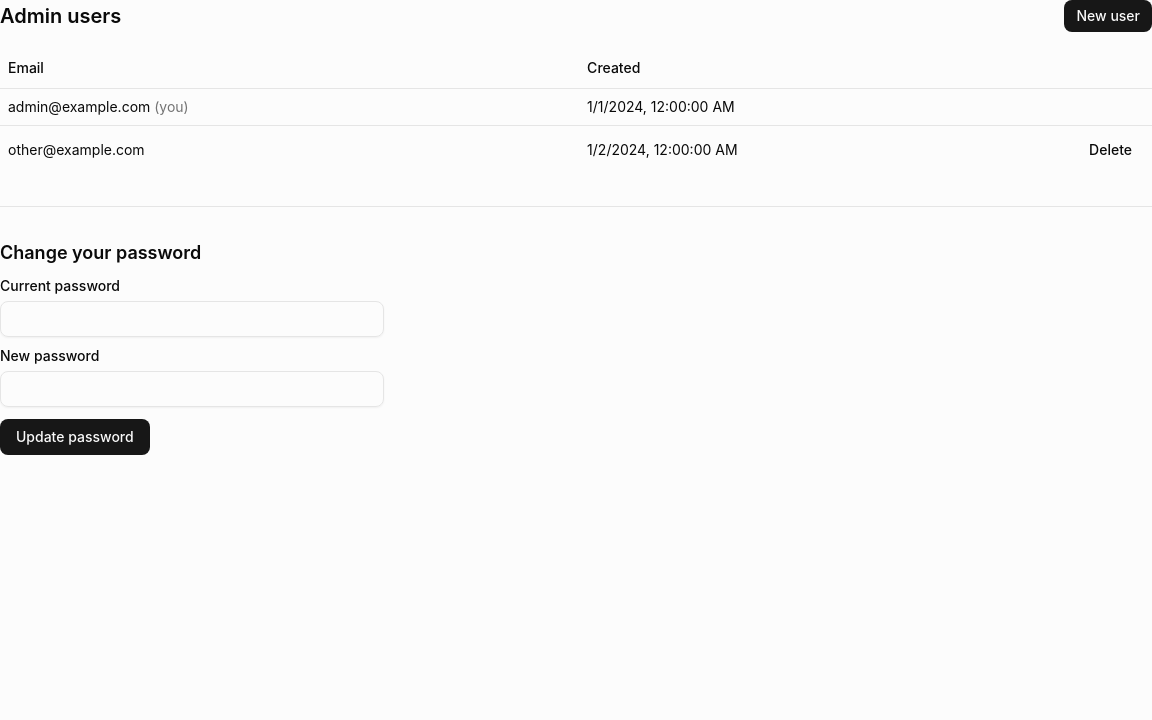
Test: UsersPage › cancels the new-user dialog without creating one
Check: the text "other@example.com" is shown, box [0, 125, 579, 174]
Step 1. Click the button "New user" → (1108, 16), box [1064, 0, 1151, 32]
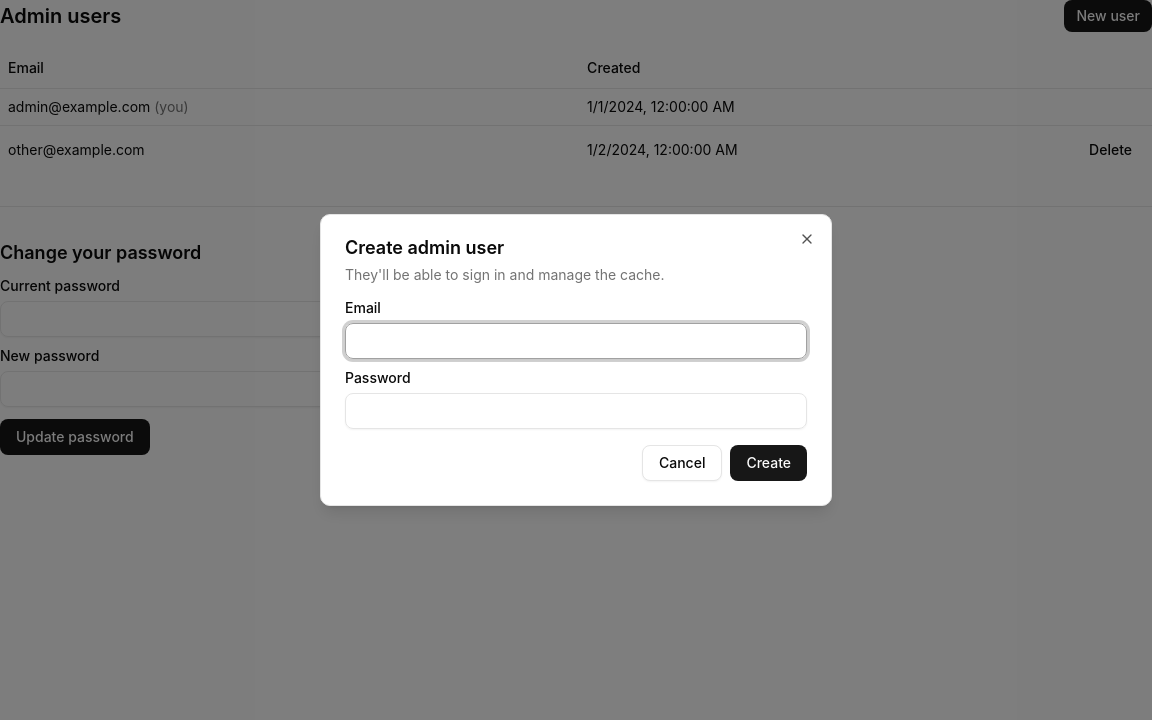
Step 2. Type "abandoned@example.com" into the field labelled "Email" → (576, 341), box [345, 323, 807, 359]
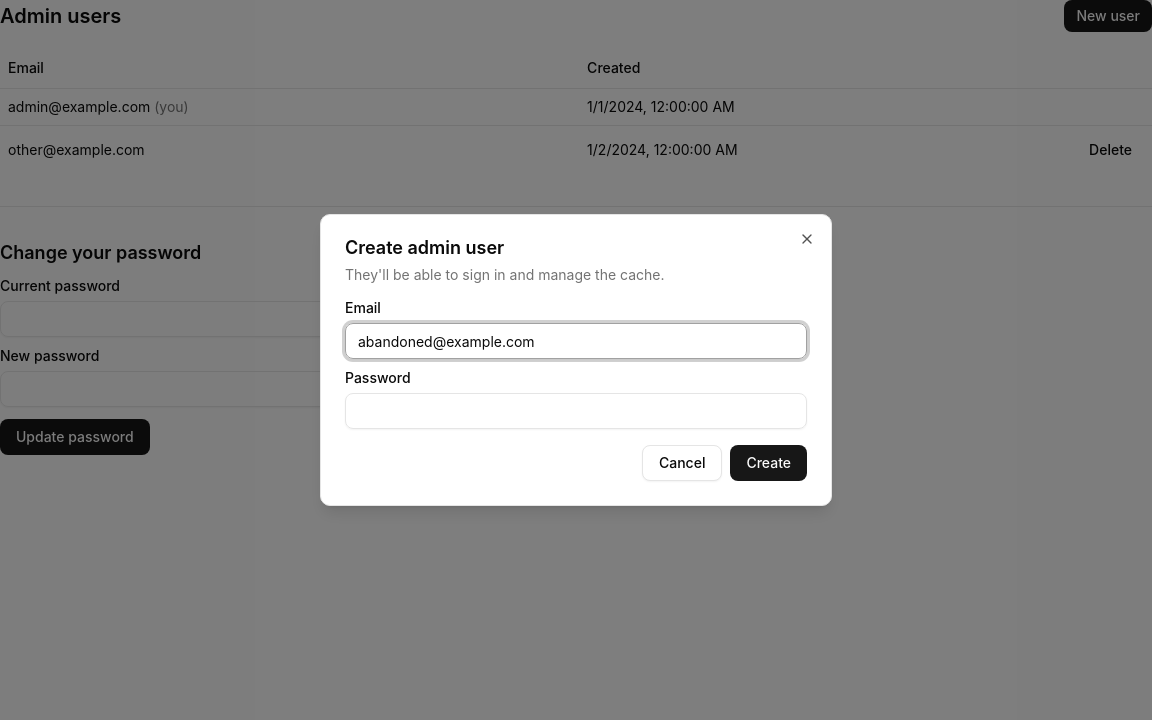
Step 3. Click the button "Cancel" → (682, 463), box [642, 445, 722, 481]
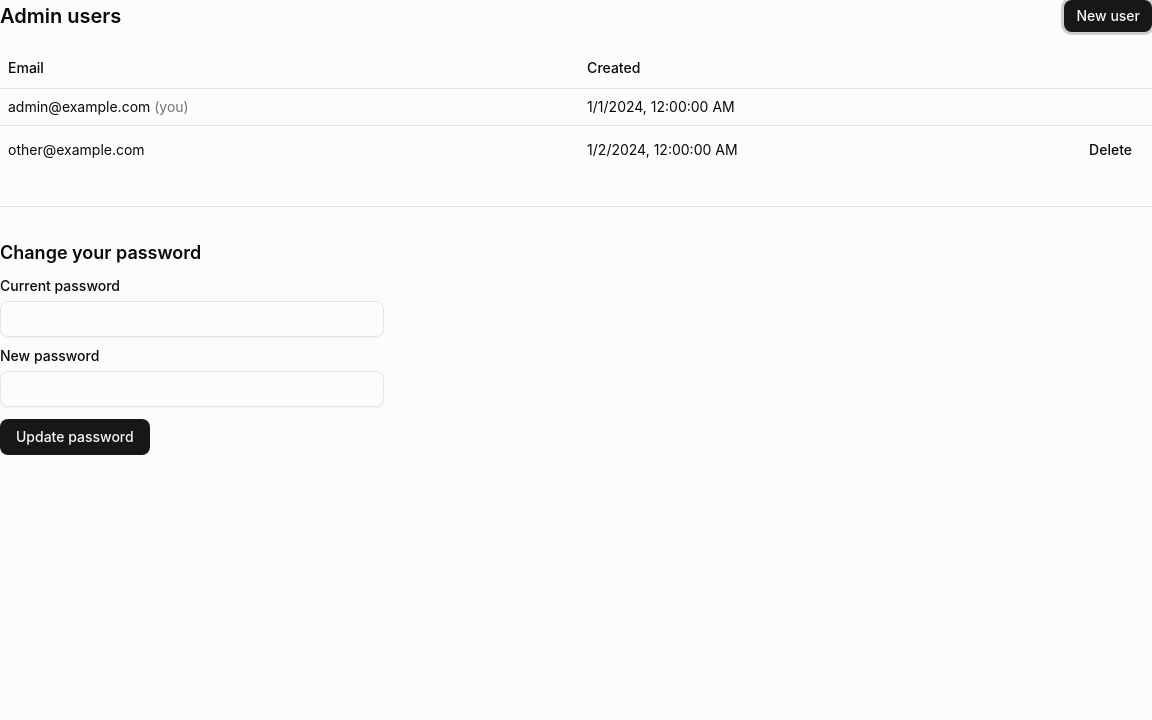
Check: the heading "Create admin user" is gone
